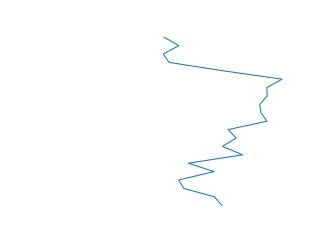floodPlain: (161, 34, 284, 209)
